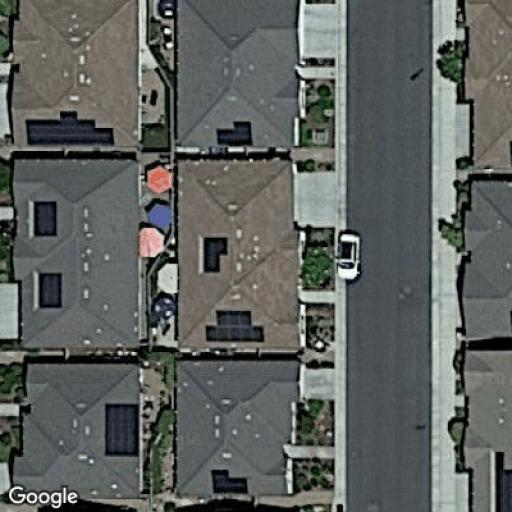solar-panel: (24, 107, 117, 147), (101, 400, 141, 460), (202, 308, 268, 344), (492, 445, 512, 512), (35, 269, 66, 312), (200, 234, 231, 276), (215, 117, 256, 148), (209, 466, 252, 494), (32, 199, 60, 240)
